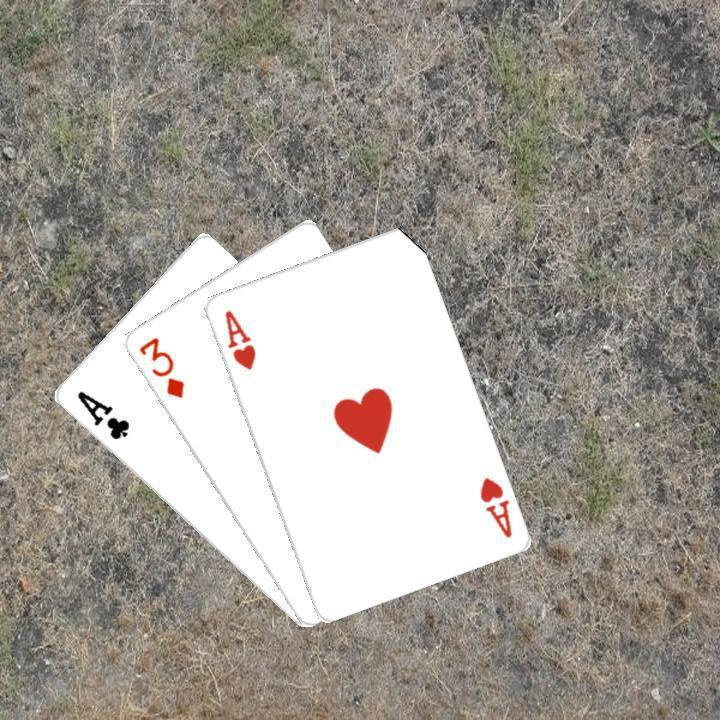3: (133, 332, 186, 401)
A: (72, 386, 131, 442), (474, 472, 514, 540), (219, 305, 258, 372)
